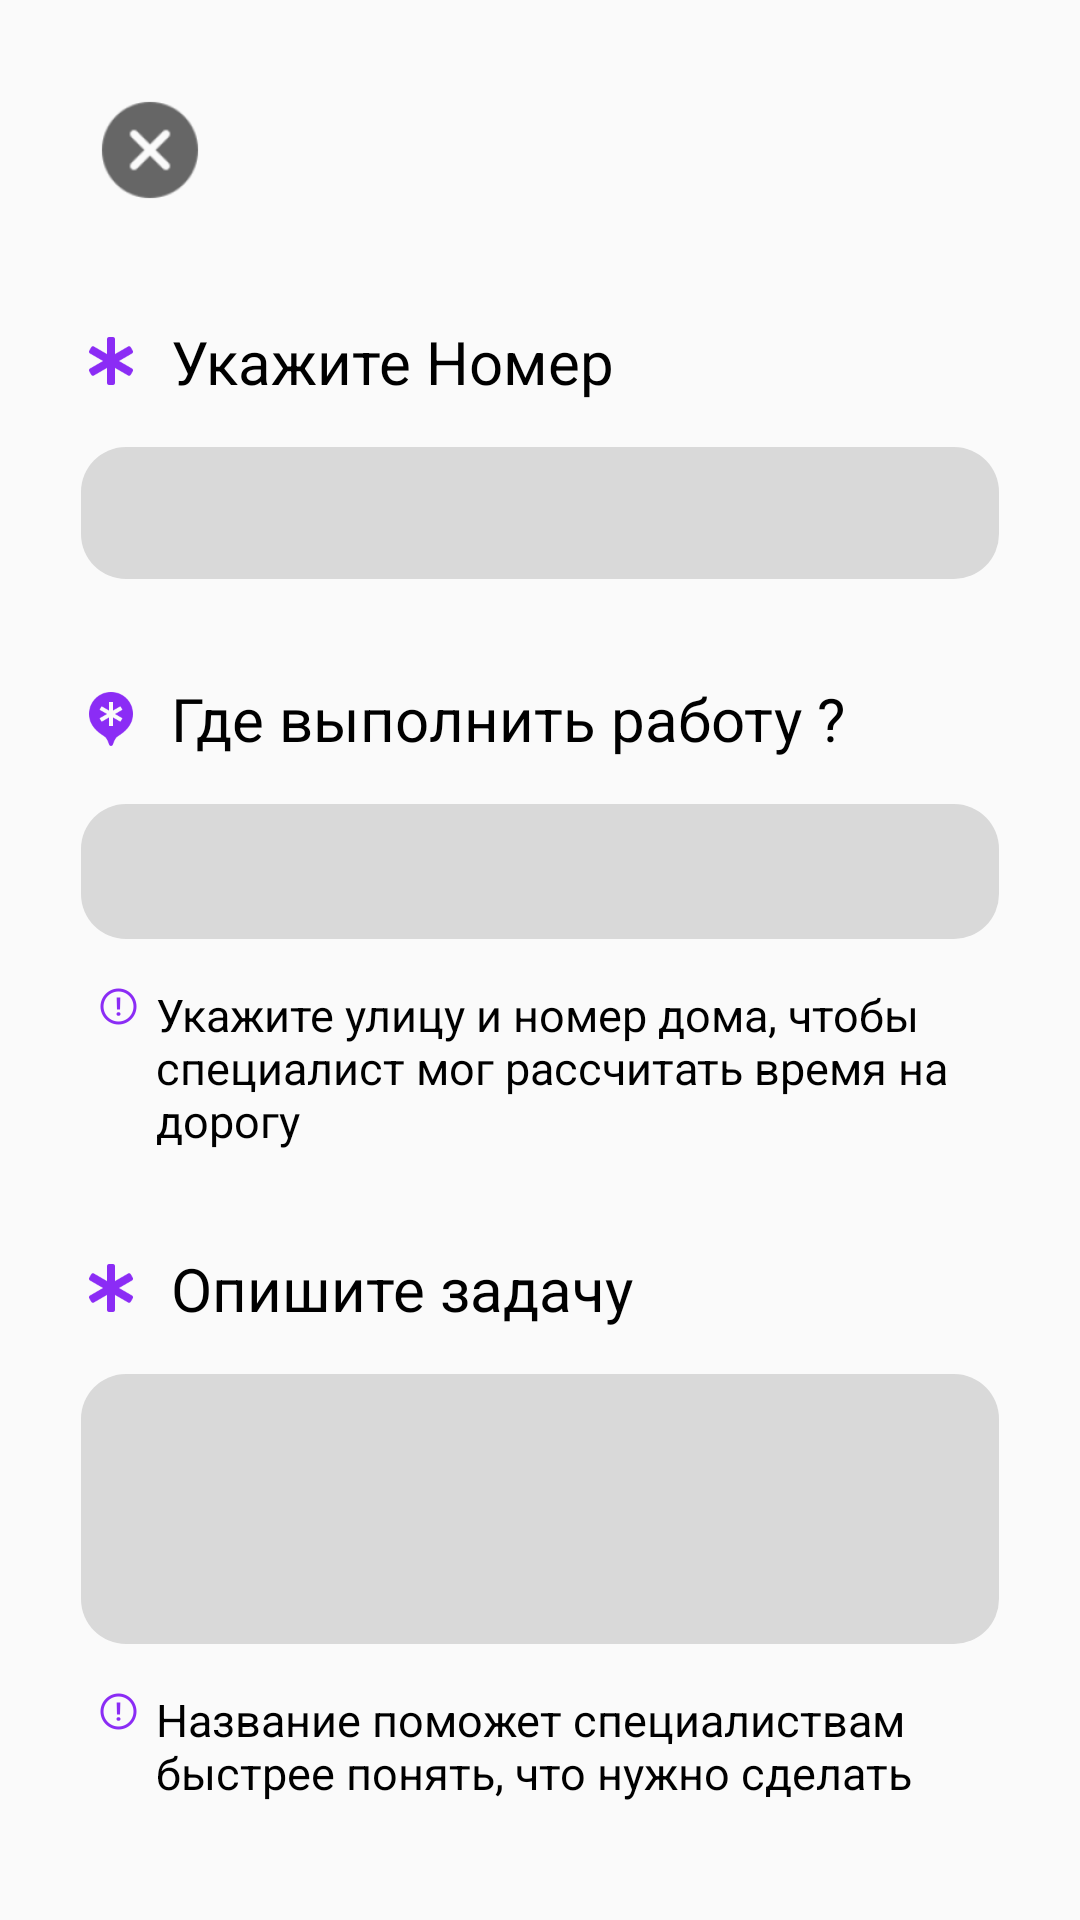

Icons on this 1080px x 1920px Android screen, each with the point to tap as [x,y]:
znak: [118,1006], [118,1711]
